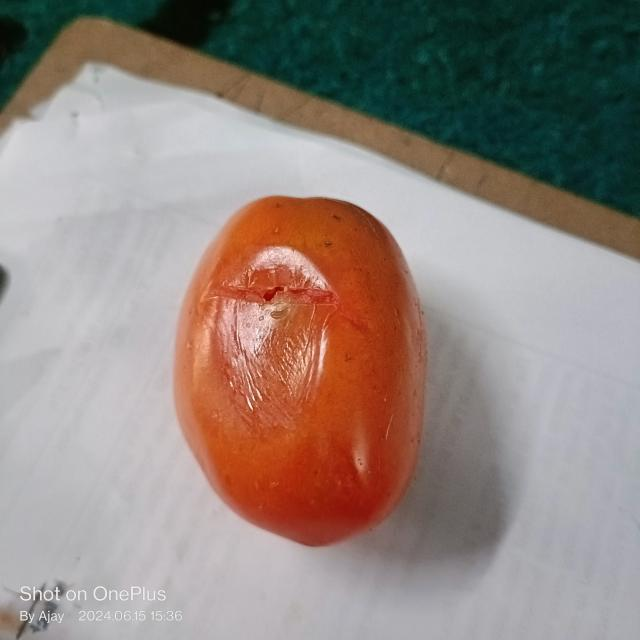Botrytis: (209, 242, 332, 433)
